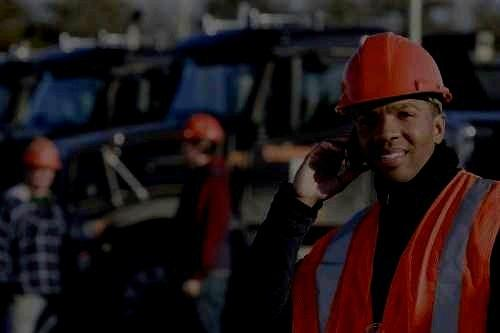helmet: (335, 31, 453, 182), (179, 111, 224, 166), (24, 136, 62, 186)
